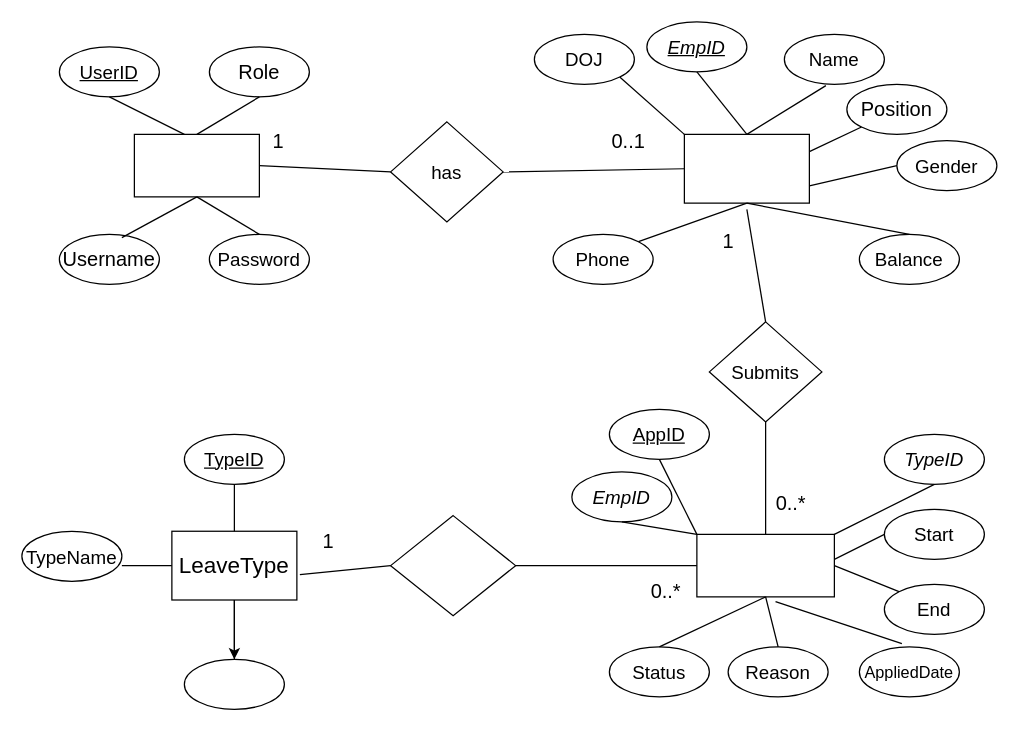
The diagram is 1019 pixels wide and 731 high, and some of its shapes have lost their labels. The shapes that lost their labels are listed below. From the top down, each one's centre as x and y in pixels, then its label:
At (196,165): "UserInfo".
At (746,168): "Employee".
At (452,565): "is used in".
At (765,565): "LeaveApply".
At (233,683): "Days".
